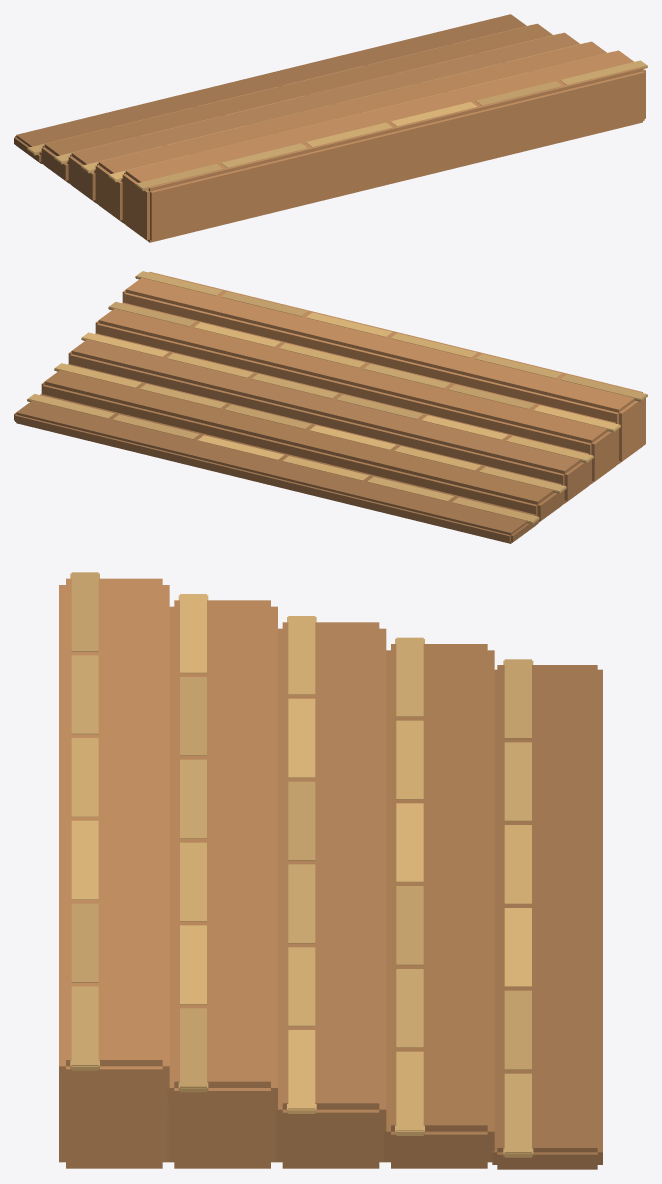
Rendered from plaza-steps-BPHj7CSI.glb.
The picture shows the model from 3 angles, top to bottom: view 1: azimuth 30°, elevation 25°; view 2: azimuth 150°, elevation 25°; view 3: azimuth 270°, elevation 25°; orthographic projection. The views are drawn at different scales.
Parts seen in each view (by area): view 1: plaza-steps; view 2: plaza-steps; view 3: plaza-steps.
Part boxes in pixels (x1,y1,x2,y2): plaza-steps: (14,14,647,242); plaza-steps: (14,271,647,543); plaza-steps: (59,572,602,1169).
Size of the model in its own units: 5.8 by 0.6 by 2.7.
